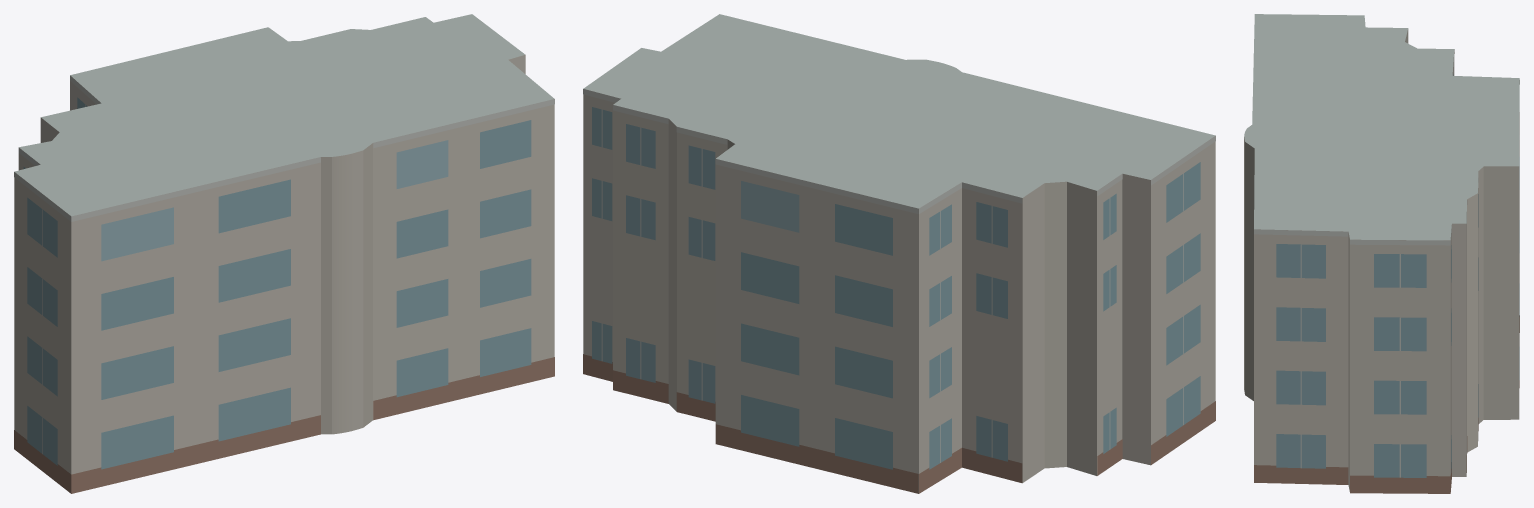
Rendered from survey-upis-32666124.glb.
3 renders of one model, left to right at view 1: azimuth 30°, elevation 25°; view 2: azimuth 150°, elevation 25°; view 3: azimuth 270°, elevation 25°, orthographic. The views are drawn at different scales.
Parts seen in each view (by area): view 1: survey-upis-32666124.tmp; view 2: survey-upis-32666124.tmp; view 3: survey-upis-32666124.tmp.
Part boxes in pixels (x1,y1,x2,y2): survey-upis-32666124.tmp: (14,14,554,493); survey-upis-32666124.tmp: (583,14,1215,493); survey-upis-32666124.tmp: (1244,14,1519,493).
Size of the model in its own units: 23.39 by 12.2 by 12.03.
